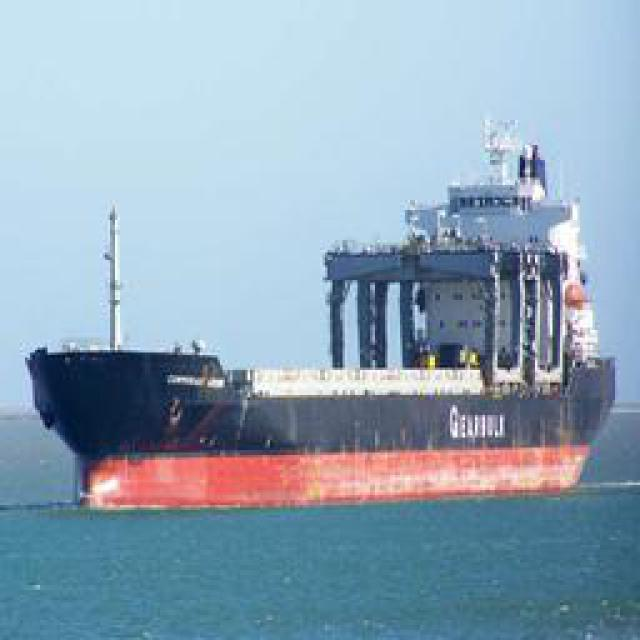Ship: (34, 88, 617, 513)
